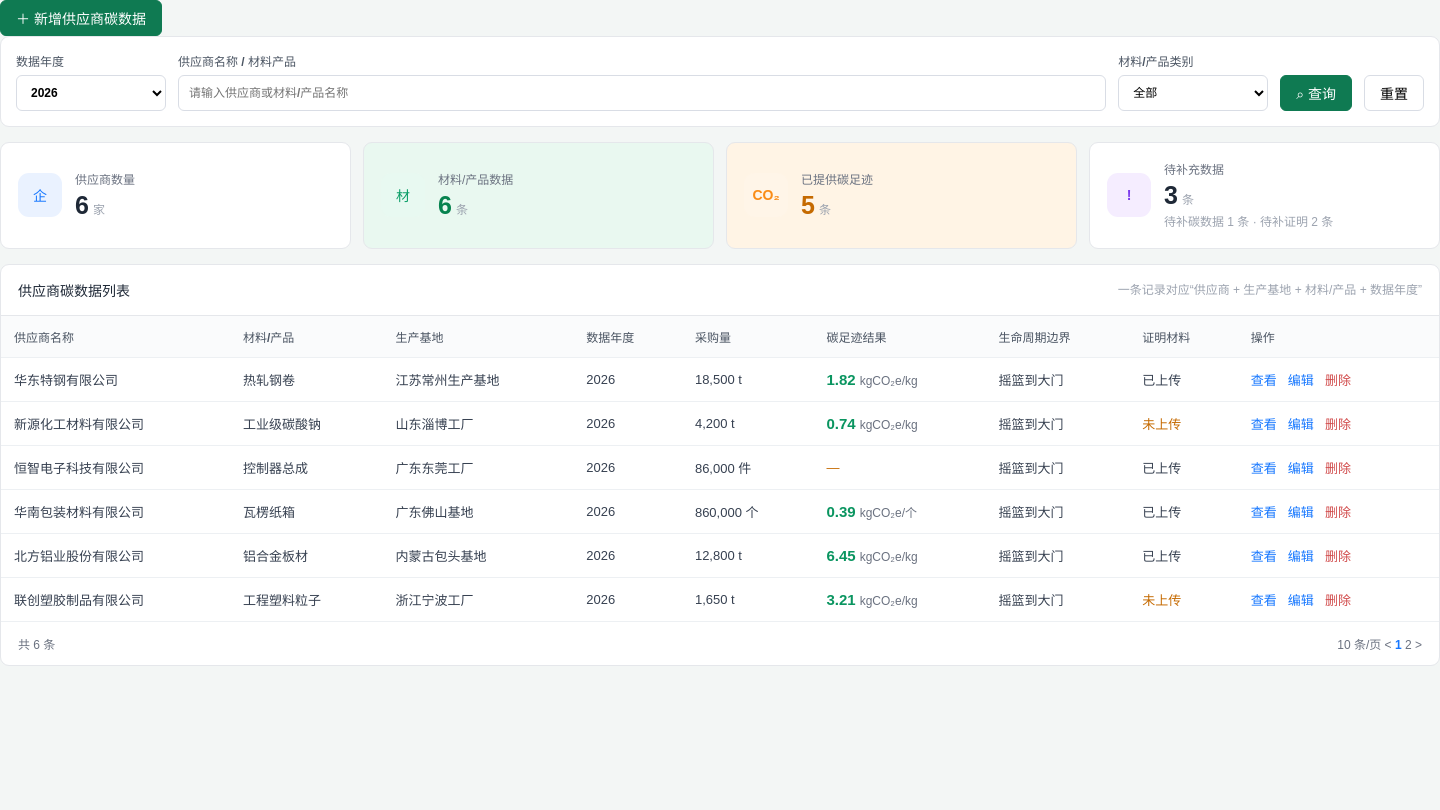
it: 供应商碳数据采集 › 证明材料列表只显示上传状态，查看操作保留材料详情
Expected: the text "热轧钢卷_碳足迹报告_2026.pdf" is not shown
Click the button "查看" in the row of "华东特钢有限公司" at (1264, 379), box [1251,370,1277,389]
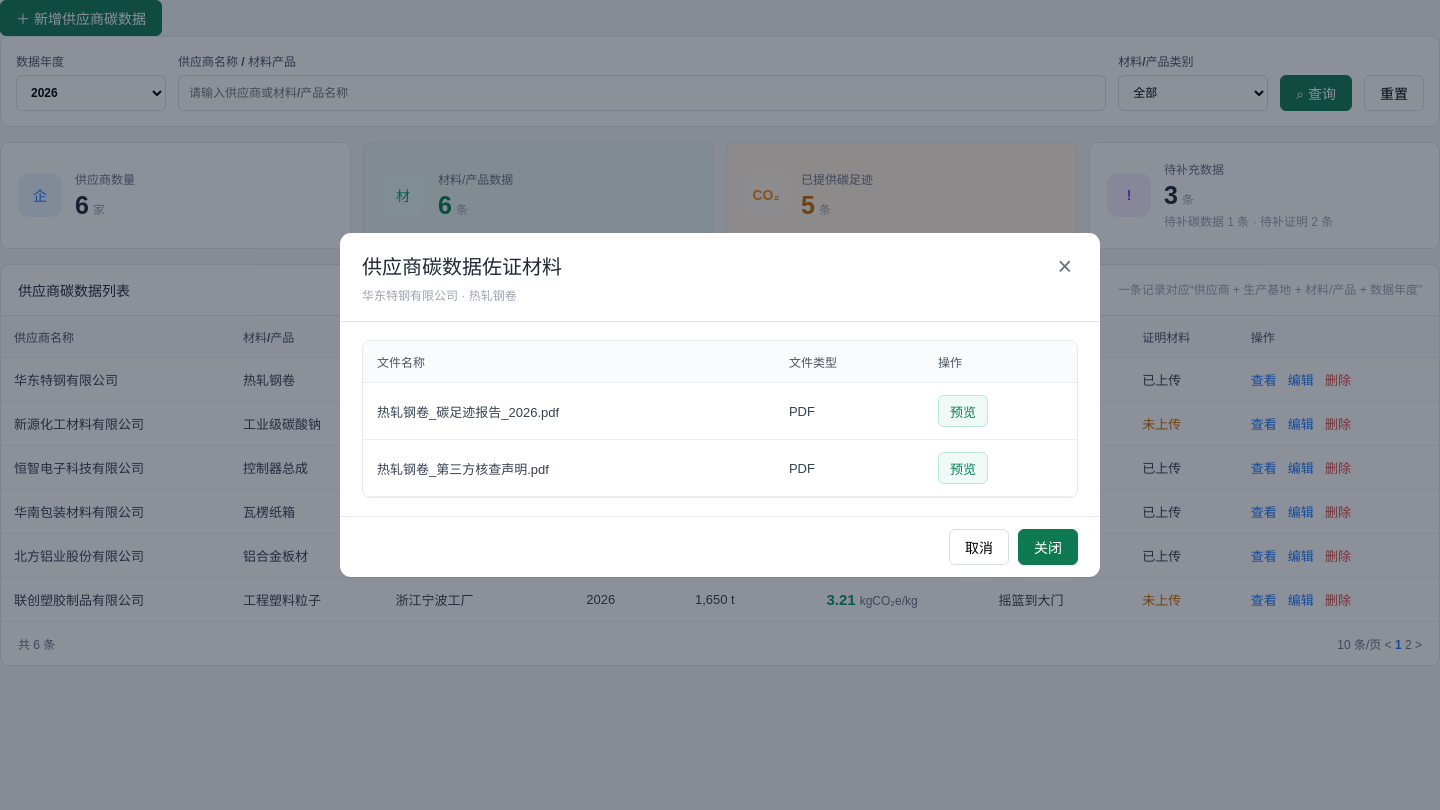
Result: the text "热轧钢卷_碳足迹报告_2026.pdf" is shown at [363,382,775,440]
Result: the text "供应商碳数据佐证材料" is shown at [362,251,562,280]
Click the button "关闭" at (1048, 547), box [1018,529,1078,565]
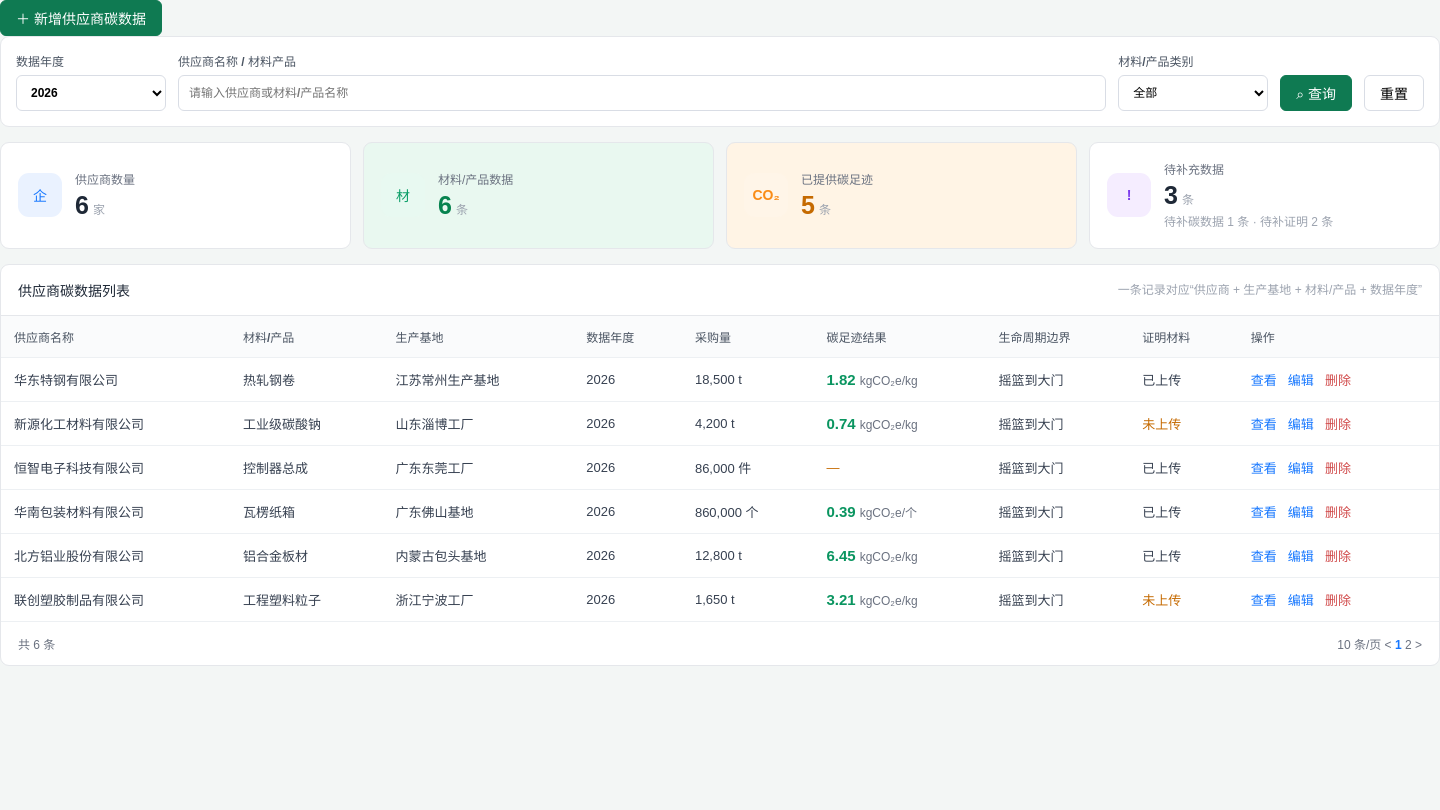
Result: the text "热轧钢卷_碳足迹报告_2026.pdf" is gone
